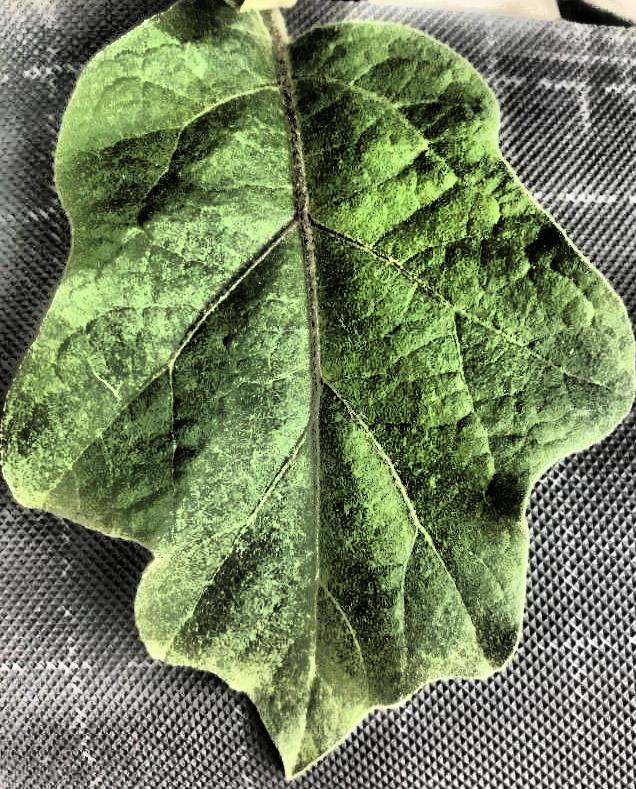HEALTHY: (1, 0, 636, 789)
